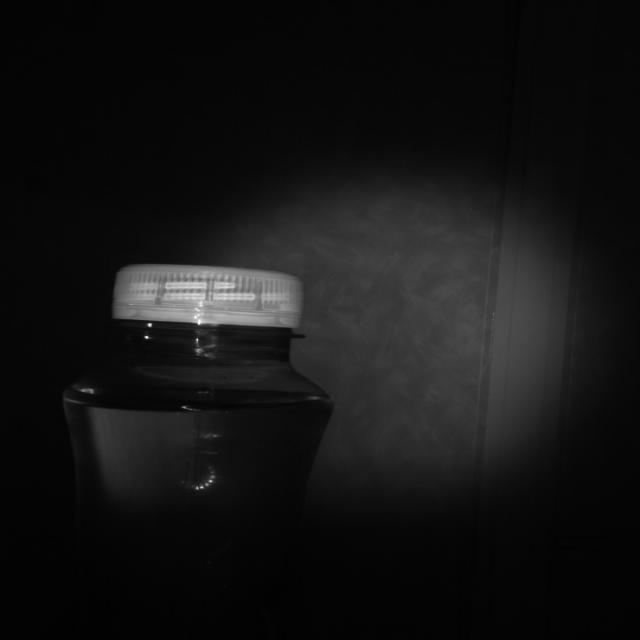Good: (108, 260, 310, 333)
